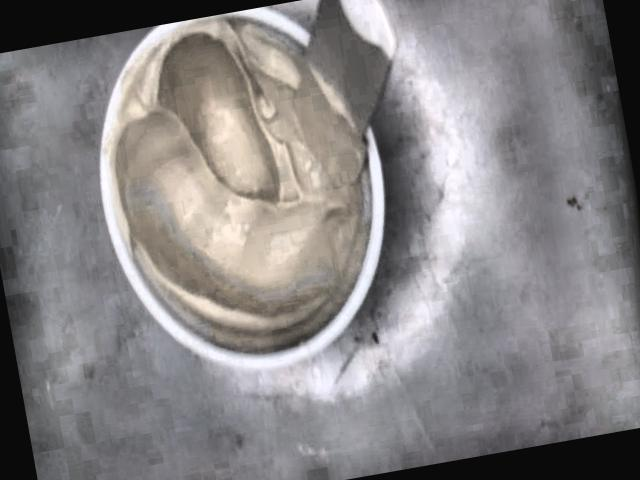Almennt: (98, 0, 394, 371)
